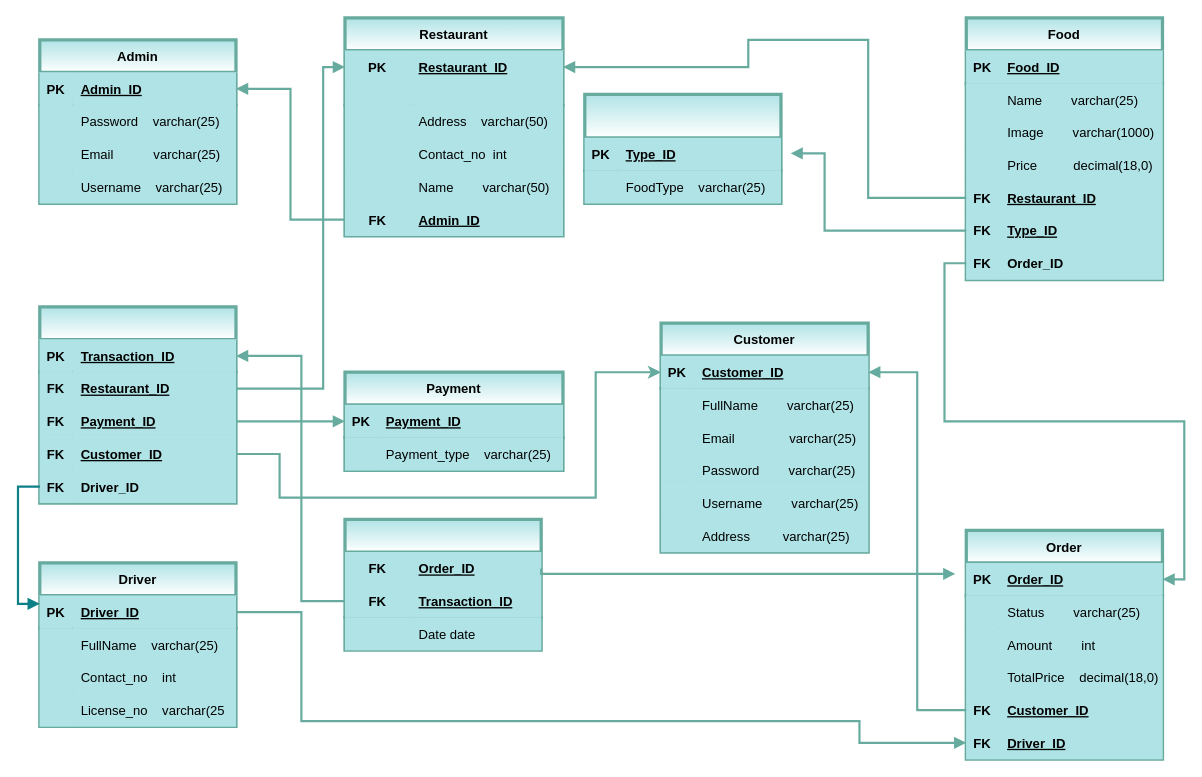
Image size: 1202x777. Some labels were removed from this diagram. Here are the shapes that lost their labels. From the top down, the box of each, then its label:
(583, 92, 782, 204): MenuType
(38, 305, 237, 504): Transactions
(343, 517, 542, 651): Has
